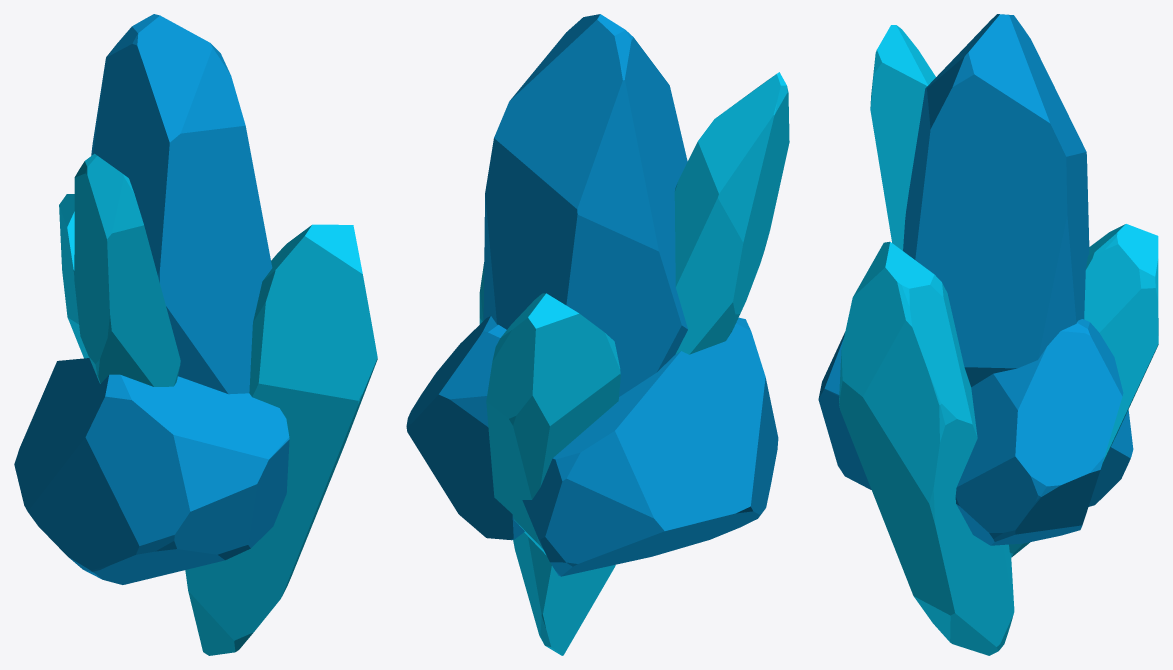
File: iceSpike1.fbx
3 views of the same model, side by side, from view 1: azimuth 30°, elevation 25°; view 2: azimuth 150°, elevation 25°; view 3: azimuth 270°, elevation 25° (orthographic). The views are drawn at different scales.
Visible parts, largest first — view 1: Sphere.003, Sphere, Sphere.005, Sphere.002, Sphere.004; view 2: Sphere, Sphere.003, Sphere.002, Sphere.004, Sphere.001, Sphere.005; view 3: Sphere, Sphere.005, Sphere.001, Sphere.004, Sphere.002, Sphere.003.
Boxes of the visible parts, box(x1,y1,x2,y2) form: Sphere.003: box(14, 358, 289, 584); Sphere: box(91, 14, 272, 394); Sphere.005: box(185, 224, 377, 655); Sphere.002: box(74, 153, 180, 386); Sphere.004: box(59, 194, 88, 358); Sphere: box(483, 14, 687, 396); Sphere.003: box(522, 317, 778, 576); Sphere.002: box(674, 72, 789, 354); Sphere.004: box(486, 293, 620, 555); Sphere.001: box(406, 316, 524, 540); Sphere.005: box(479, 262, 615, 655); Sphere: box(903, 14, 1089, 387); Sphere.005: box(839, 241, 1014, 655); Sphere.001: box(955, 319, 1123, 545); Sphere.004: box(1009, 224, 1158, 557); Sphere.002: box(870, 25, 935, 250); Sphere.003: box(818, 332, 1133, 506).
Size of the model in its own units: 136 by 276 by 137.
